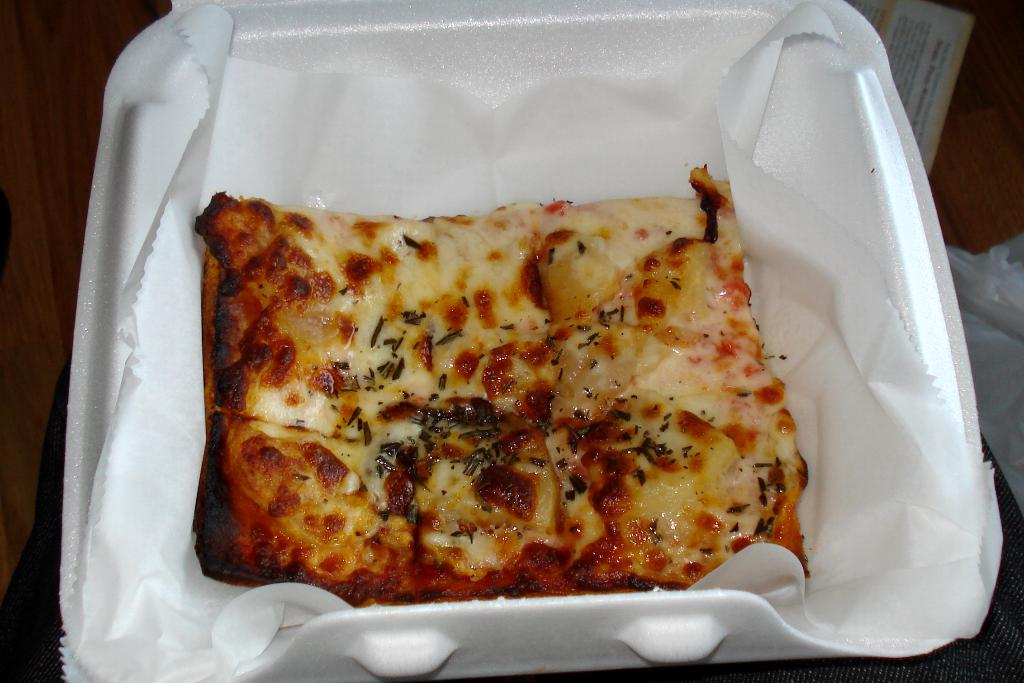Pizza: (162, 169, 810, 607)
